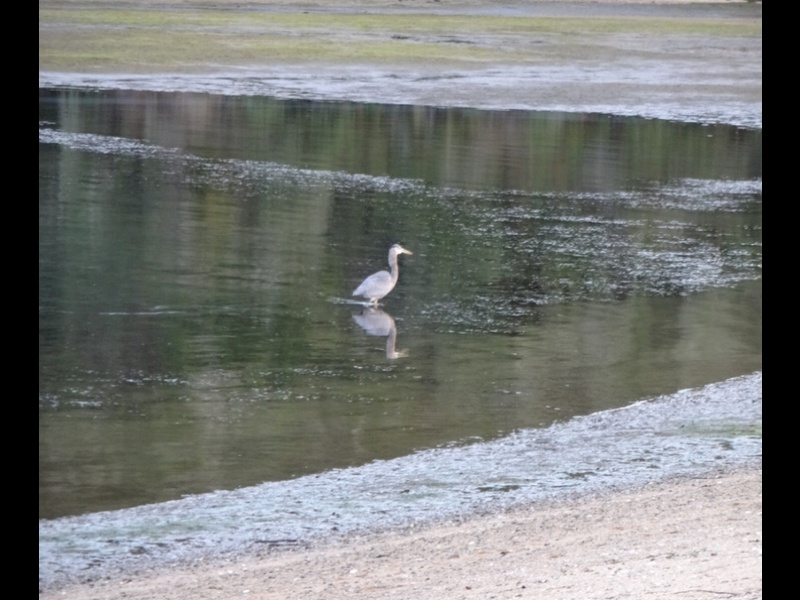heron: (353, 241, 413, 302)
